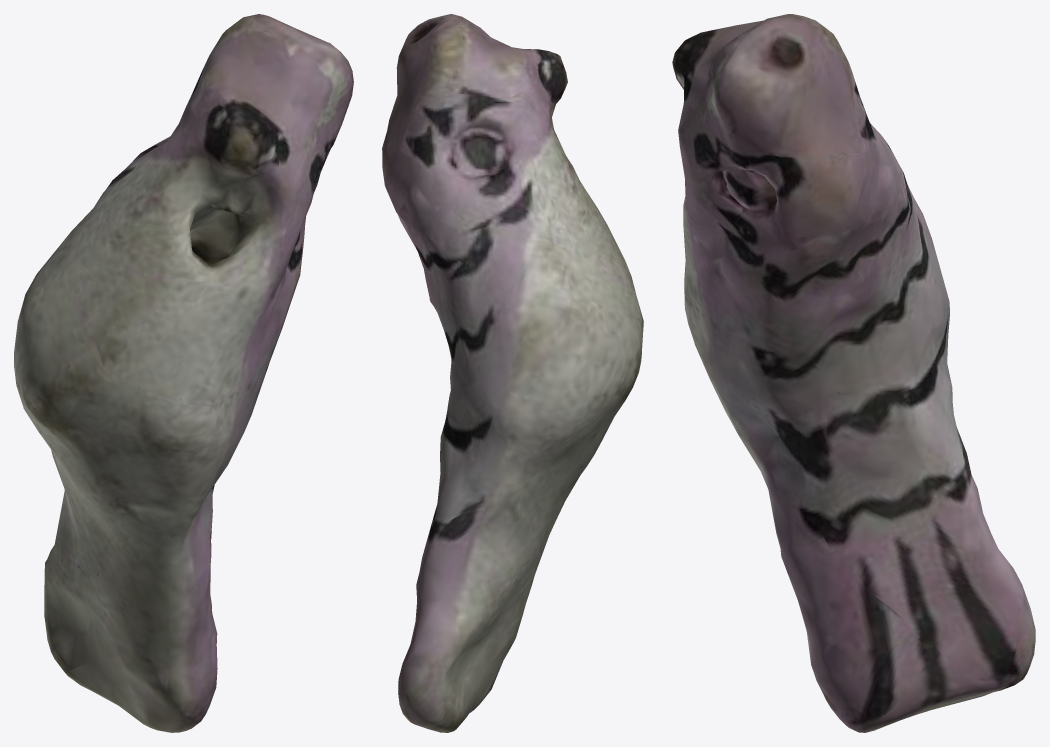
Rendered from hall.glb.
The picture shows the model from 3 angles, left to right: view 1: azimuth 30°, elevation 25°; view 2: azimuth 150°, elevation 25°; view 3: azimuth 270°, elevation 25°; orthographic projection. The views are drawn at different scales.
Size of the model in its own units: 0.3874 by 0.9403 by 0.4203.
1 material, 1 textured.
